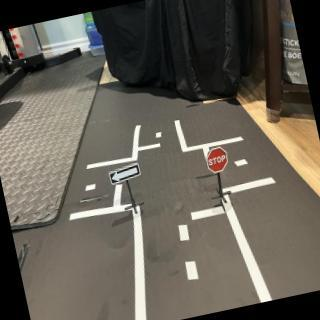sign_oneway_left: (108, 162, 142, 188)
sign_stop: (205, 146, 231, 175)
